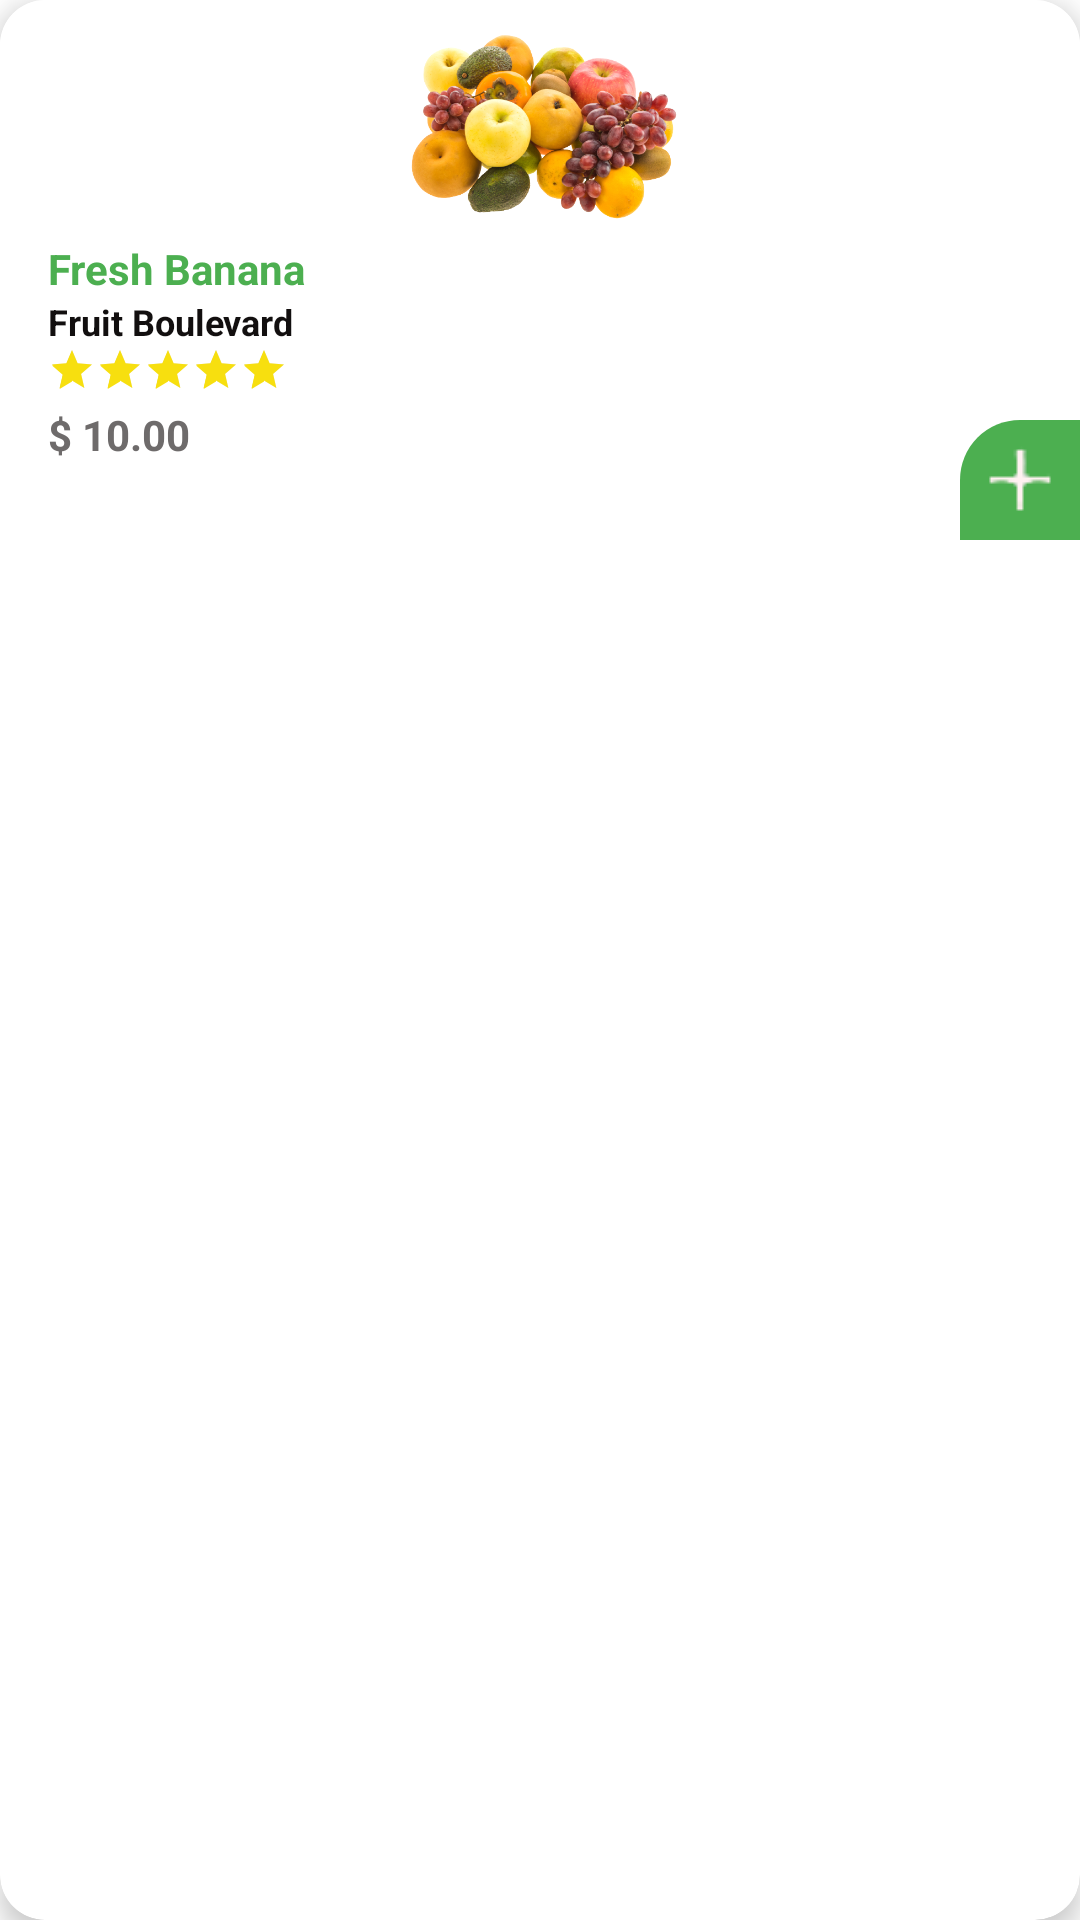

Screen size 1080w x 1920h. Icon name, then its box in pixels as (x1, y1, x2, y2):
plus: (960, 420, 1080, 540)
